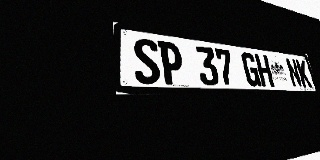3: (195, 46, 220, 86)
7: (214, 48, 237, 86)
G: (240, 52, 262, 87)
H: (254, 54, 275, 87)
K: (295, 59, 312, 88)
N: (285, 58, 303, 87)
P: (158, 40, 185, 85)
S: (132, 37, 161, 84)
